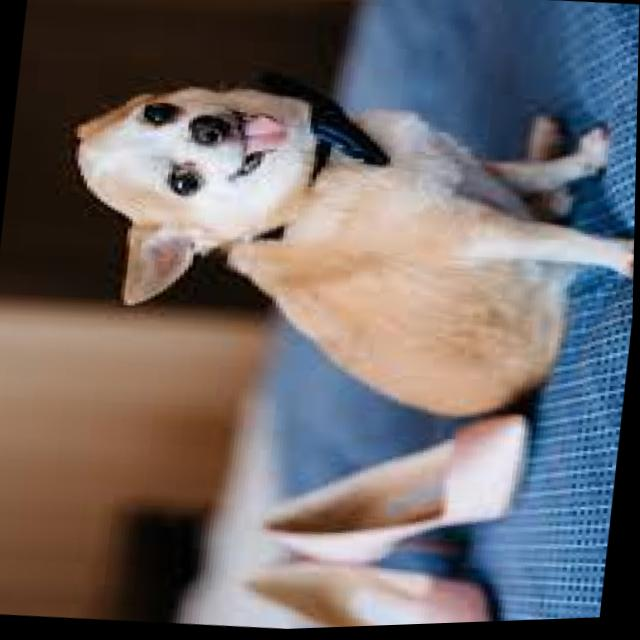Chihuahua: (50, 62, 640, 446)
